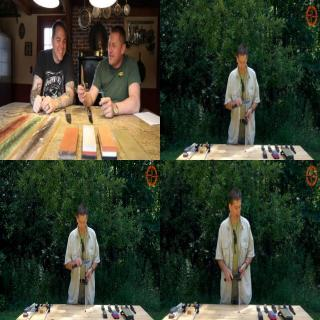knife: (77, 60, 87, 100), (231, 99, 251, 110), (71, 259, 91, 270), (224, 272, 242, 282)
